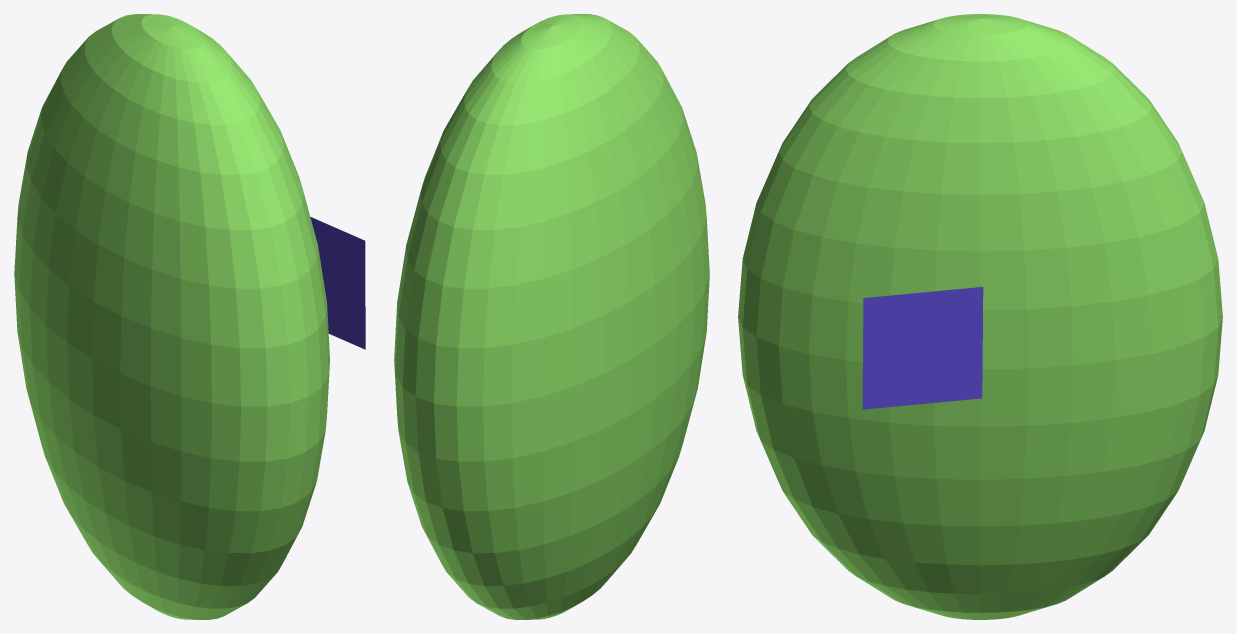
3 renders of one model, left to right at view 1: azimuth 30°, elevation 25°; view 2: azimuth 150°, elevation 25°; view 3: azimuth 270°, elevation 25°, orthographic. The views are drawn at different scales.
Visible parts, largest first — view 1: bow, plane; view 2: bow; view 3: bow, plane.
Boxes of the visible parts, box(x1,y1,x2,y2) form: bow: box(14, 14, 329, 619); plane: box(310, 217, 365, 349); bow: box(394, 14, 709, 619); bow: box(738, 14, 1222, 619); plane: box(862, 287, 983, 409).
Size of the model in its own units: 1.18 by 2.72 by 2.
